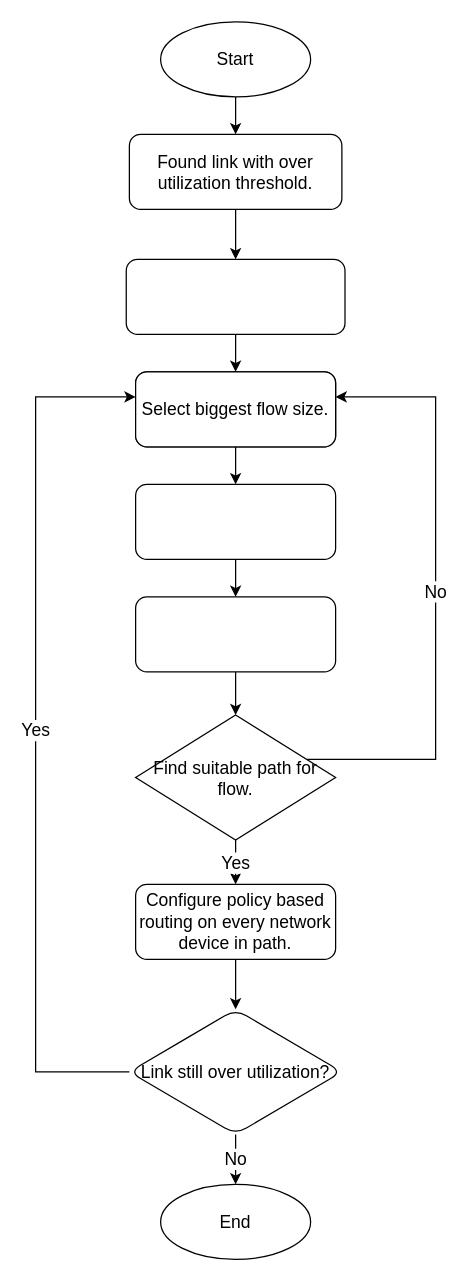
This 469x1281 diagram has some shape labels left out. Here are the shapes that lost their labels. From the top down, the centre of each, then its label:
point 235,296: Sort flow size in link.
point 235,521: Finding path for flow.
point 235,634: Select path with available bandwidth.
